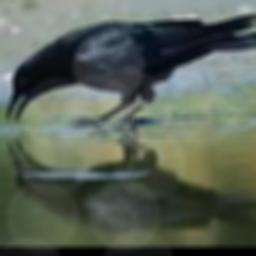Crow: (6, 12, 256, 127)
